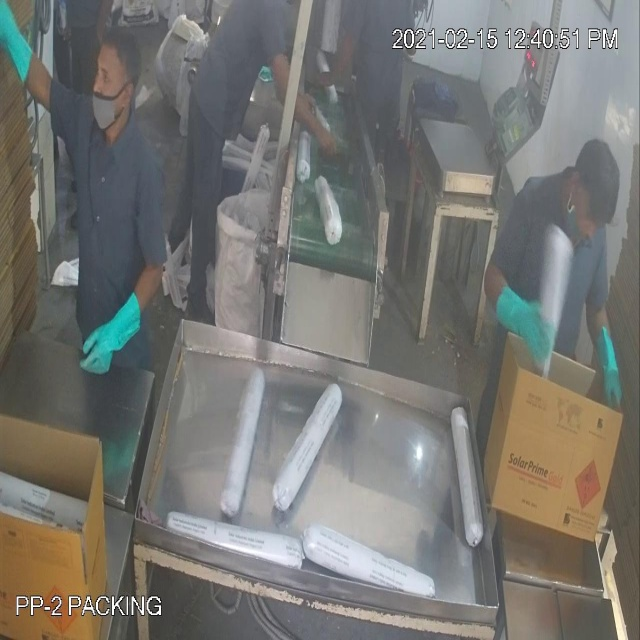Guantes: (68, 278, 145, 390), (490, 265, 560, 381), (589, 304, 633, 415), (2, 1, 44, 112)
Sin_guantes: (270, 43, 339, 168), (303, 26, 363, 99)
